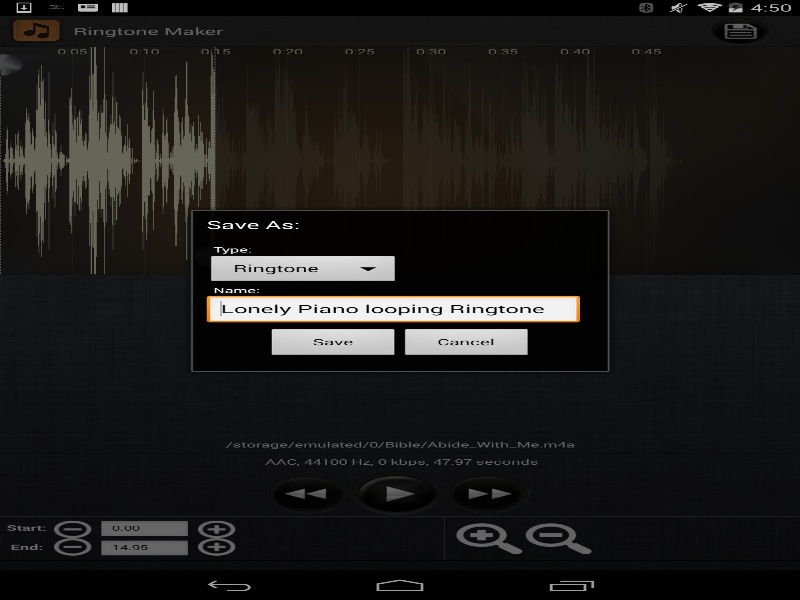Button: (266, 328, 400, 358), (400, 328, 533, 358)
Input: (206, 295, 580, 325)
